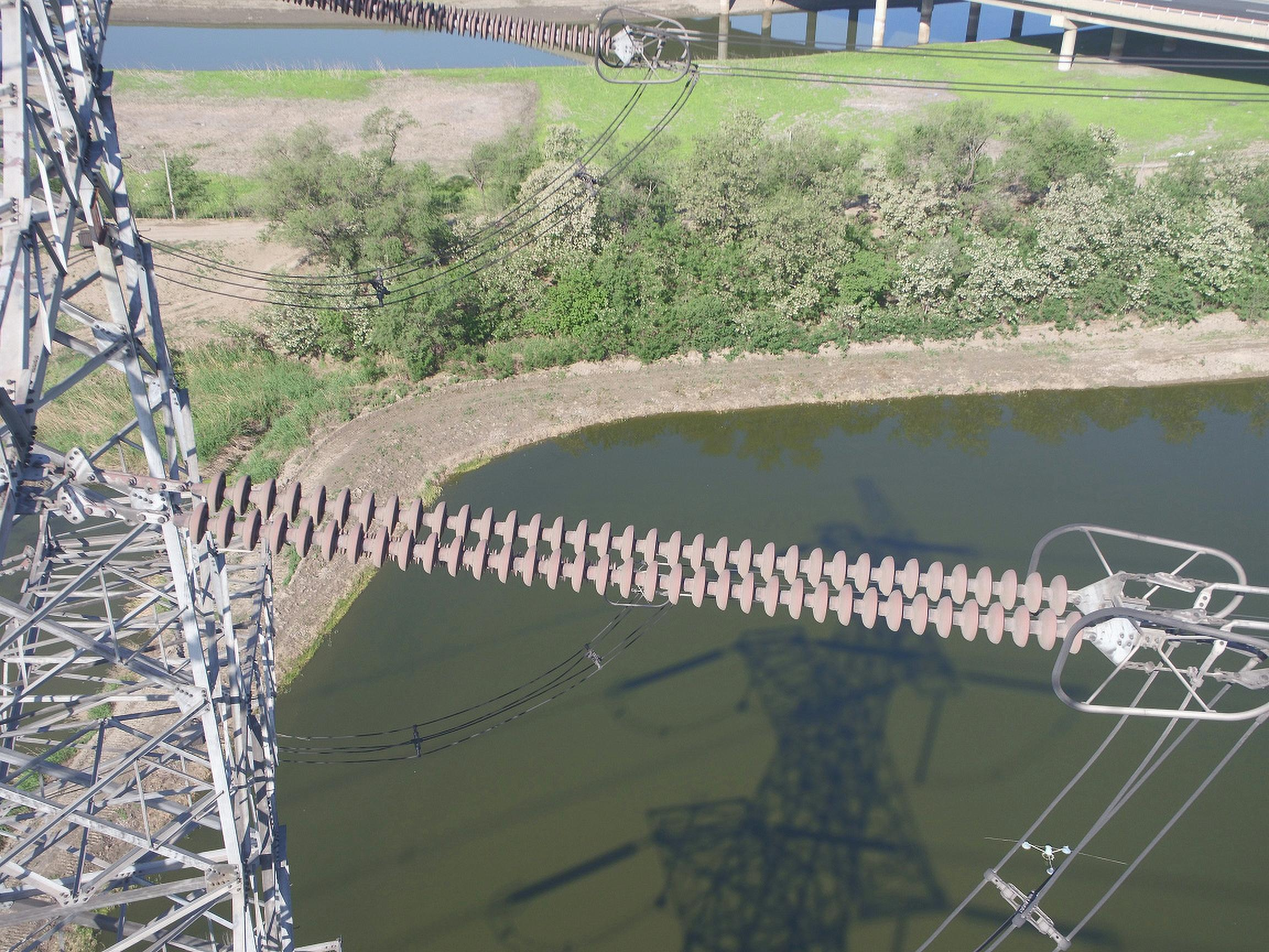insulator: (182, 464, 1091, 659), (279, 1, 616, 61)
